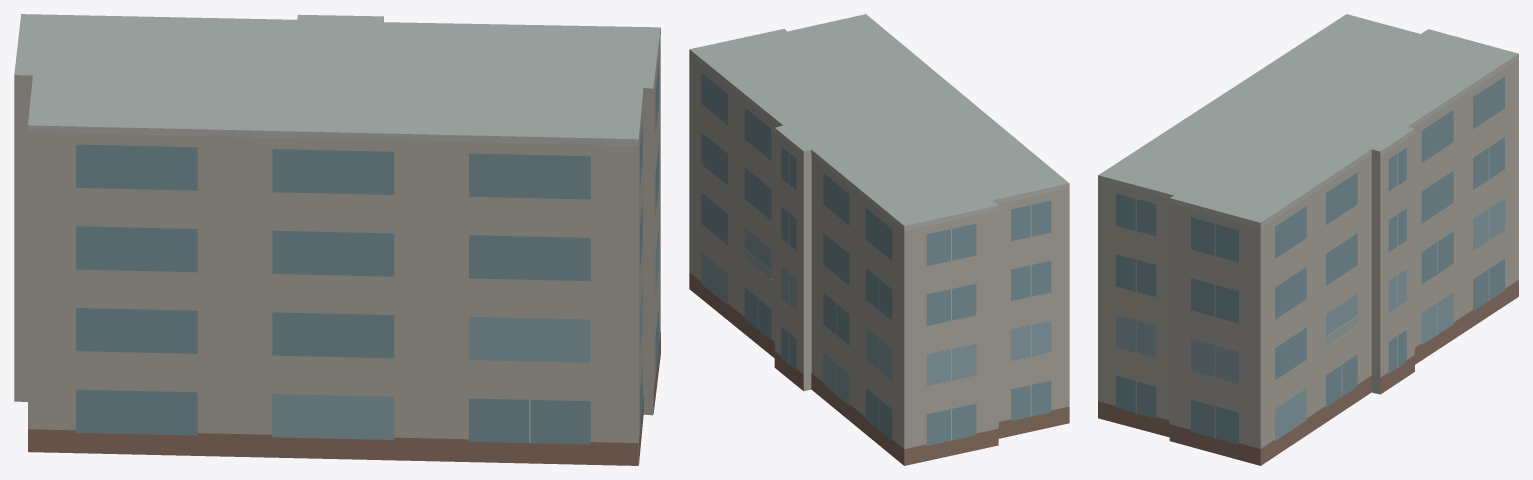
Rendered from survey-upis-32524887.glb.
The picture shows the model from 3 angles, left to right: view 1: azimuth 30°, elevation 25°; view 2: azimuth 150°, elevation 25°; view 3: azimuth 270°, elevation 25°; orthographic projection. The views are drawn at different scales.
Visible parts, largest first — view 1: survey-upis-32524887.tmp; view 2: survey-upis-32524887.tmp; view 3: survey-upis-32524887.tmp.
Boxes of the visible parts, x1,y1,x2,y2 form: survey-upis-32524887.tmp: [14, 14, 660, 465]; survey-upis-32524887.tmp: [689, 14, 1069, 465]; survey-upis-32524887.tmp: [1098, 14, 1518, 465].
Bounding box in the file's own units: 21.61 × 11.72 × 18.4.
